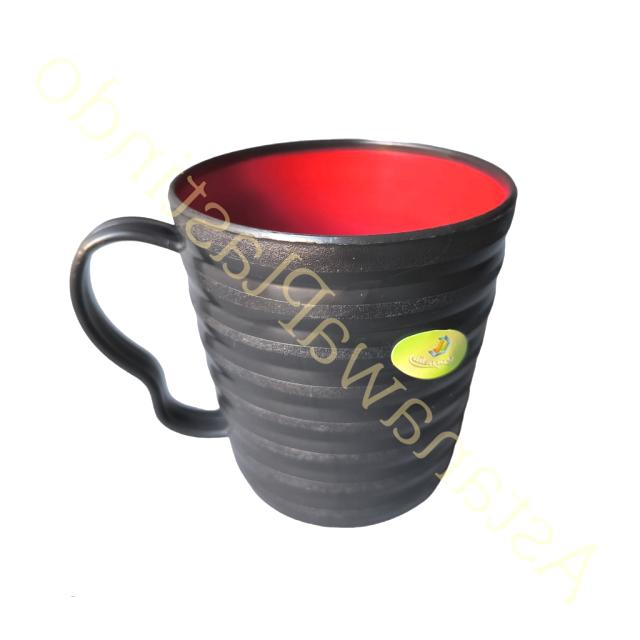Cangkir: (54, 120, 538, 536)
